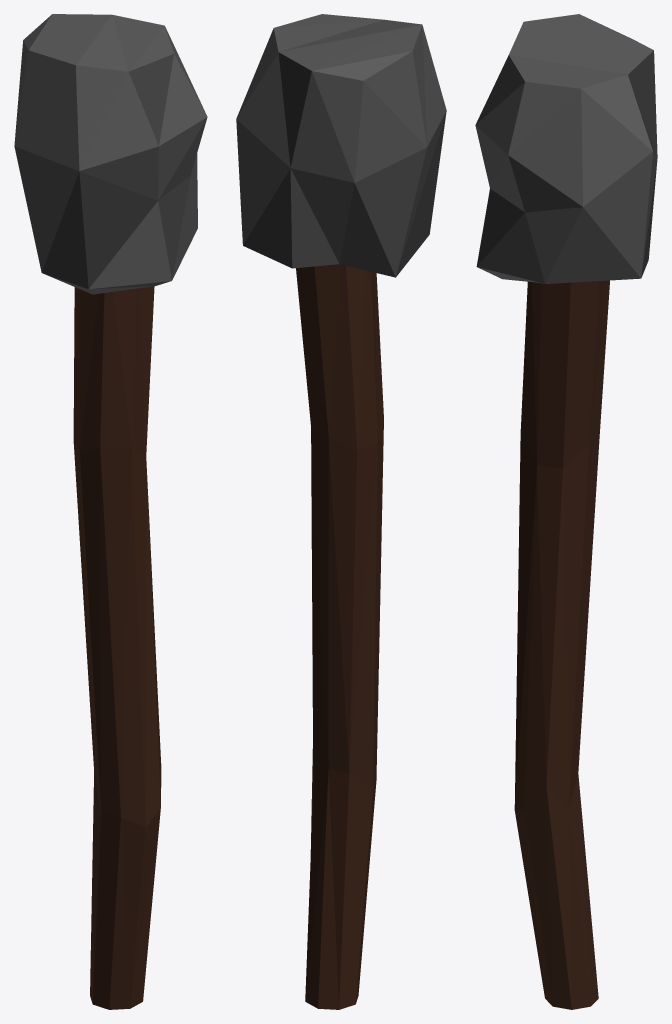
Rendered from Torch_vc.fbx.
3 renders of one model, left to right at view 1: azimuth 30°, elevation 25°; view 2: azimuth 150°, elevation 25°; view 3: azimuth 270°, elevation 25°, orthographic. The views are drawn at different scales.
Parts seen in each view (by area): view 1: Torch_vc; view 2: Torch_vc; view 3: Torch_vc.
Boxes of the visible parts, left/top/right/bottom form: Torch_vc: left=14, top=14, right=207, bottom=1009; Torch_vc: left=236, top=14, right=446, bottom=1009; Torch_vc: left=475, top=14, right=657, bottom=1009.
Size of the model in its own units: 11.1 by 55.63 by 9.71.
